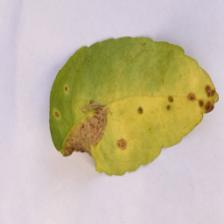canker: (61, 64, 197, 154)
